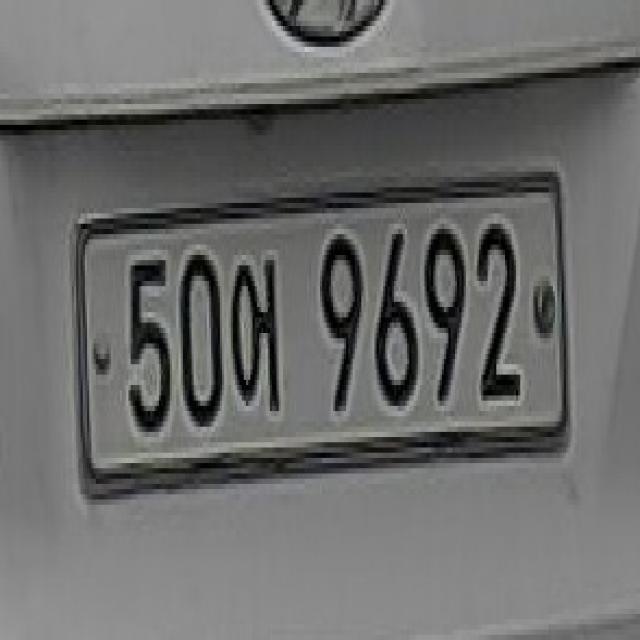0: (176, 233, 226, 434)
2: (474, 211, 527, 419)
5: (118, 244, 173, 443)
6: (375, 218, 420, 422)
9: (424, 207, 470, 424), (318, 223, 366, 430)
eo: (228, 237, 296, 438)
license_plate: (56, 166, 578, 508)
